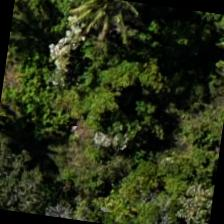Kelapa_Sawit: (42, 0, 139, 49)
